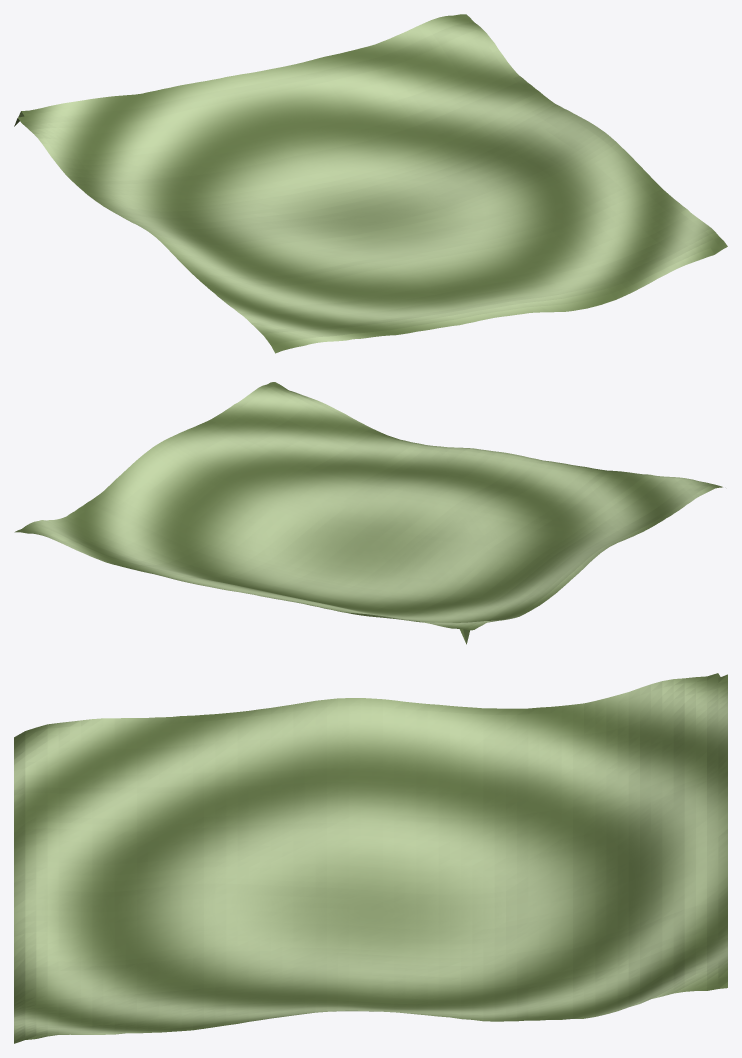
Rendered from terrain-lod3.glb.
The picture shows the model from 3 angles, top to bottom: view 1: azimuth 30°, elevation 25°; view 2: azimuth 150°, elevation 25°; view 3: azimuth 270°, elevation 25°; orthographic projection. The views are drawn at different scales.
Parts seen in each view (by area): view 1: geometry_0; view 2: geometry_0; view 3: geometry_0.
Boxes of the visible parts, x1=… form: geometry_0: x1=14, y1=14, x2=727, y2=353; geometry_0: x1=14, y1=382, x2=722, y2=644; geometry_0: x1=14, y1=673, x2=727, y2=1043.
Size of the model in its own units: 511 by 87.03 by 511.
1 material, 1 textured.
